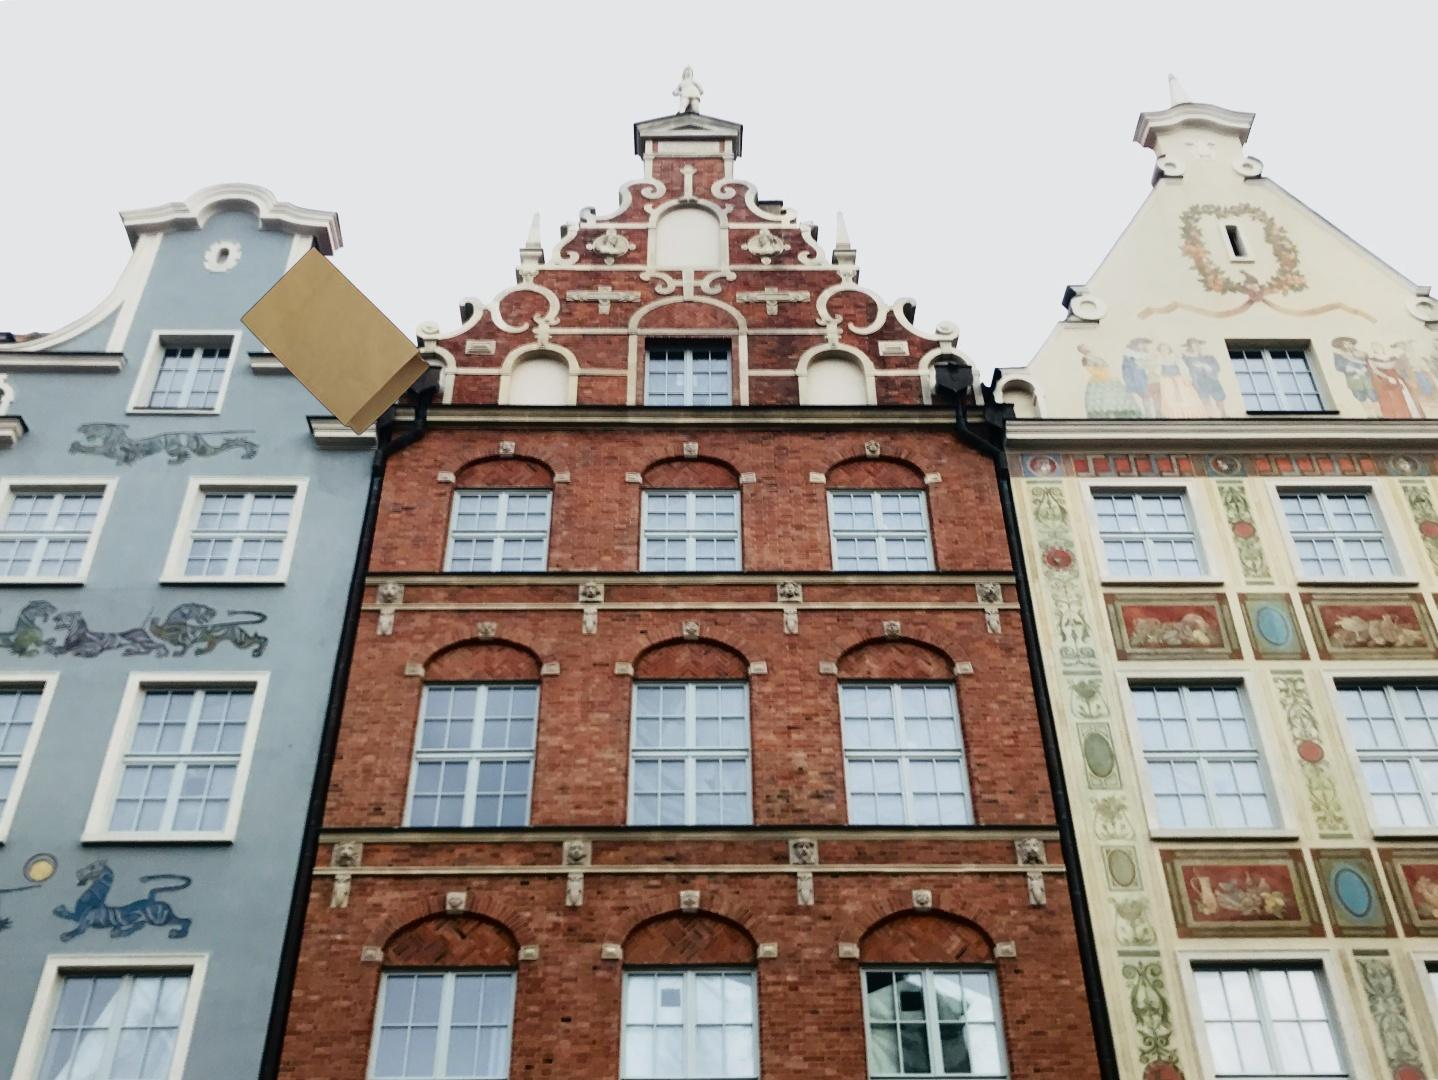paper-bag: (238, 245, 431, 438)
